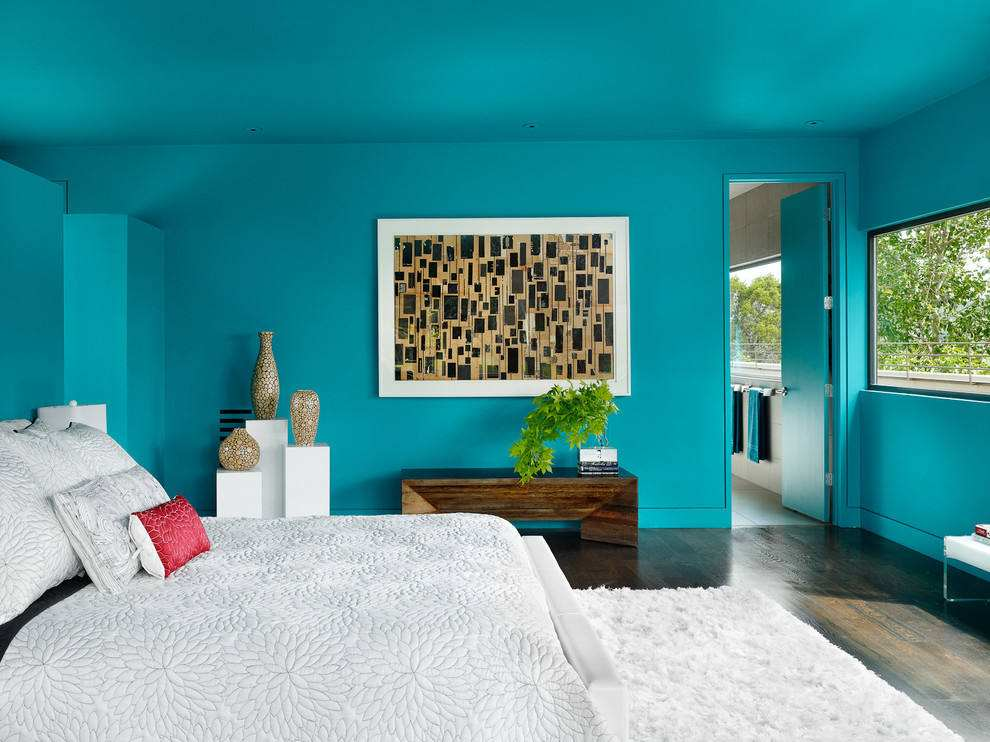床: (19, 524, 571, 736)
枕头: (8, 412, 205, 621)
灯: (515, 119, 539, 135), (240, 122, 262, 137), (804, 117, 822, 131)
